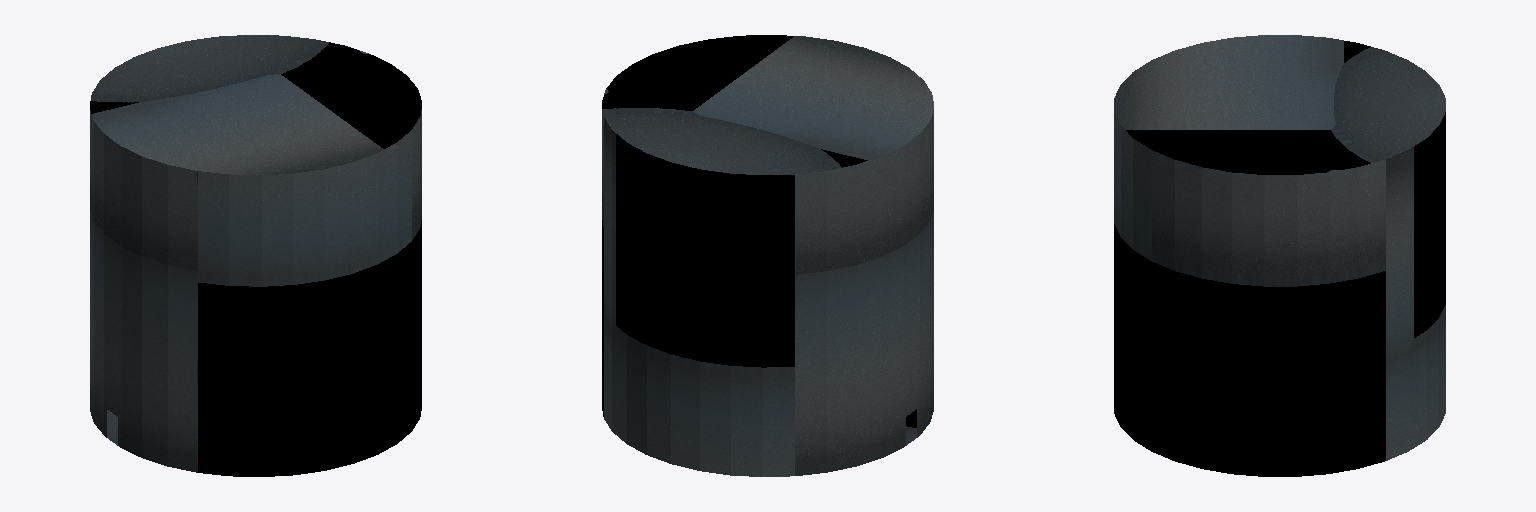
3 renders of one model, left to right at view 1: azimuth 30°, elevation 25°; view 2: azimuth 150°, elevation 25°; view 3: azimuth 270°, elevation 25°, orthographic.
Parts seen in each view (by area): view 1: Cylinder.001_Cylinder; view 2: Cylinder.001_Cylinder; view 3: Cylinder.001_Cylinder.
Boxes of the visible parts, x1,y1,x2,y2 form: Cylinder.001_Cylinder: [90, 35, 421, 476]; Cylinder.001_Cylinder: [602, 35, 933, 476]; Cylinder.001_Cylinder: [1114, 35, 1445, 476].
Bounding box in the file's own units: 1.99 × 2 × 1.99.
1 materials, 1 textured.